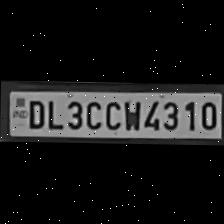0: (196, 98, 218, 128)
1: (179, 98, 197, 129)
3: (158, 97, 180, 129), (64, 97, 82, 128)
4: (140, 97, 160, 128)
C: (82, 97, 102, 128), (102, 97, 122, 128)
D: (23, 96, 44, 127)
L: (43, 95, 62, 127)
W: (121, 97, 141, 130)
